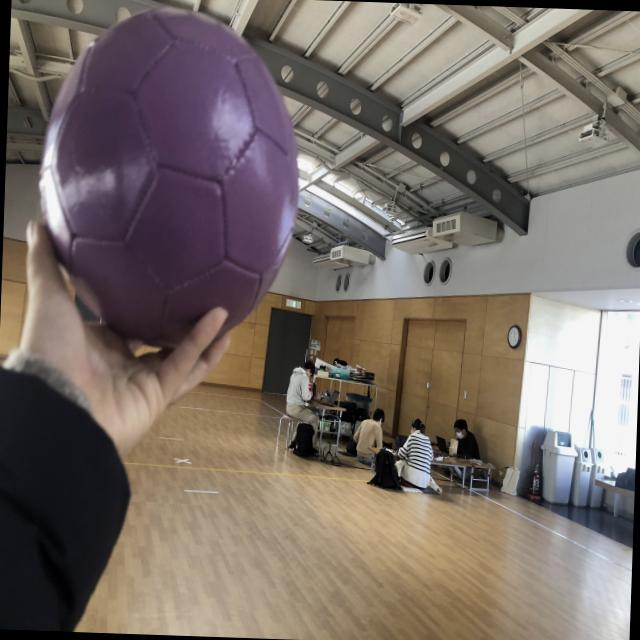purple_ball: (35, 6, 304, 354)
